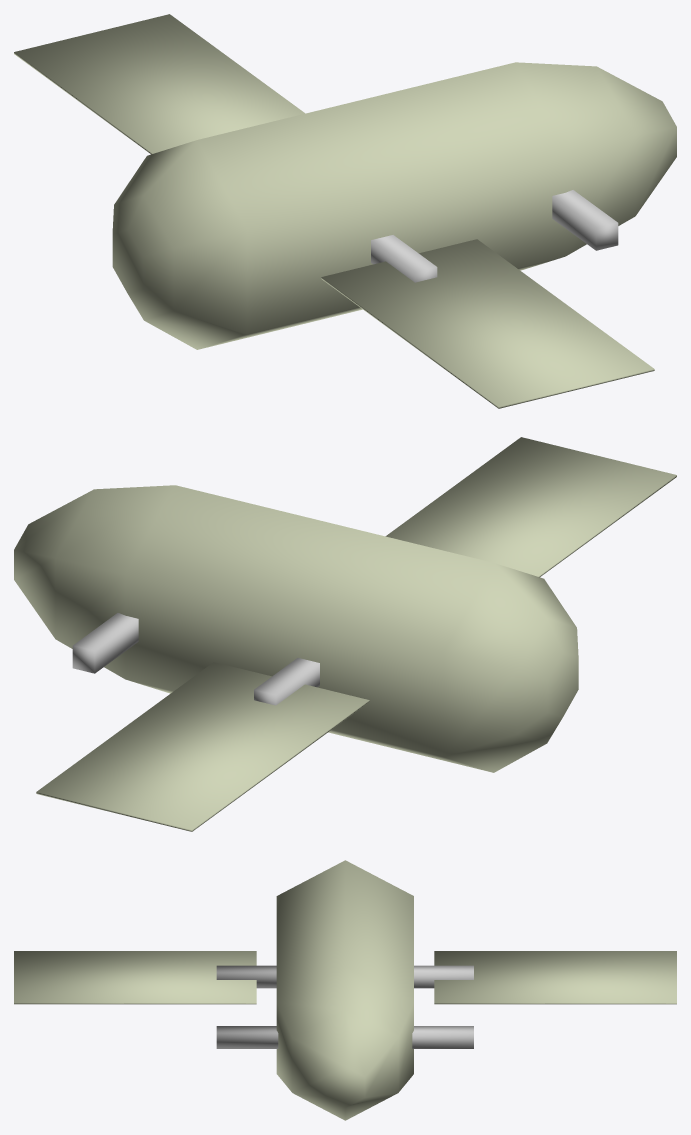
File: SpaceShip1.obj
3 views of the same model, one above another, from view 1: azimuth 30°, elevation 25°; view 2: azimuth 150°, elevation 25°; view 3: azimuth 270°, elevation 25° (orthographic). The views are drawn at different scales.
Visible parts, largest first — view 1: body, cube9_copy10, cube9, cube4, cube4_copy5; view 2: body, cube9, cube9_copy10, cube4, cube4_copy5; view 3: body, cube9, cube9_copy10, cube4, cube4_copy5.
Part boxes in pixels (x1,y1,x2,y2): body: (112,62,676,349); cube9_copy10: (321,239,654,408); cube9: (14,14,305,154); cube4: (552,190,618,250); cube4_copy5: (371,235,437,282); body: (14,485,578,772); cube9: (36,662,369,831); cube9_copy10: (385,437,676,577); cube4: (72,613,138,673); cube4_copy5: (254,658,319,705); body: (276,860,413,1120); cube9: (434,951,676,1004); cube9_copy10: (14,951,256,1004); cube4: (216,1026,473,1048); cube4_copy5: (216,965,473,988).
Size of the model in its own units: 4.25 by 1.59 by 6.67.
